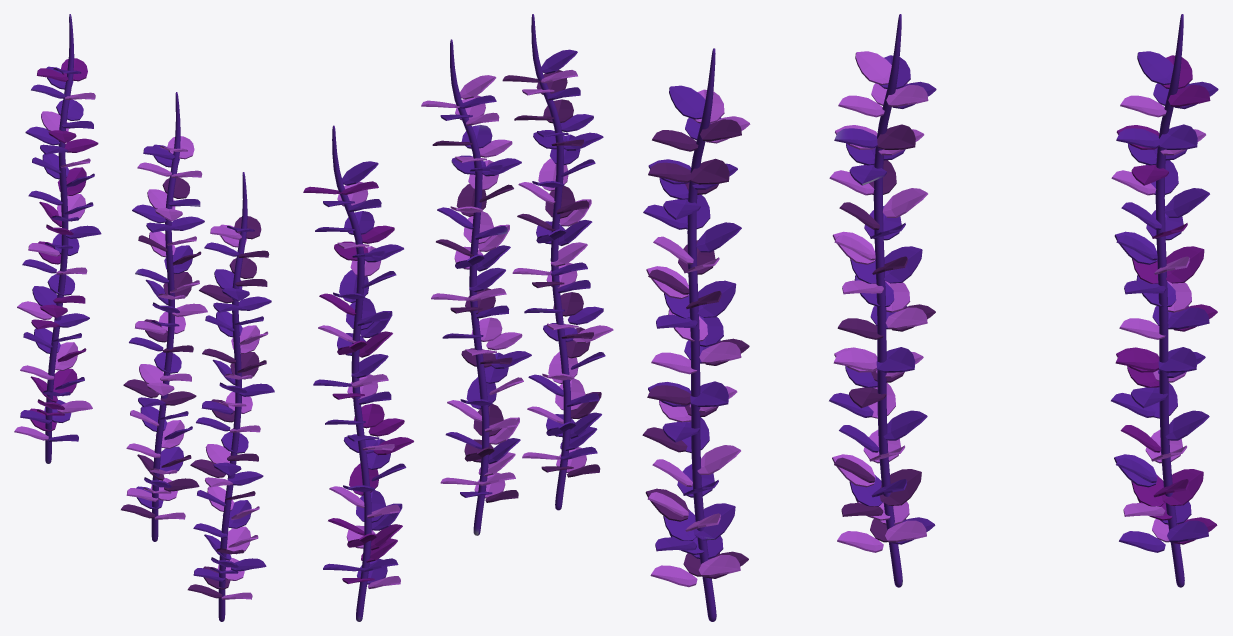
The model's file is seaweed_asset.glb.
3 views of the same model, side by side, from view 1: azimuth 30°, elevation 25°; view 2: azimuth 150°, elevation 25°; view 3: azimuth 270°, elevation 25° (orthographic). The views are drawn at different scales.
Visible parts, largest first — view 1: Group2 (×2), seaweed:Group2, Group44 (×2), Group41 (×2), Group20 (×2), Group17 (×2), Group51 (×2), seaweed:Group44, seaweed:Group41, seaweed:Group20, seaweed:Group17, seaweed:Group51; view 2: Group2 (×2), seaweed:Group2, Group5 (×2), Group50 (×2), Group56 (×2), Group23 (×2), Group38 (×2), seaweed:Group5, seaweed:Group50, seaweed:Group23, seaweed:Group56, Group42 (+1 smaller); view 3: Group2 (×2), seaweed:Group2, Group5 (×2), Group16 (×2), Group45 (×2), Group22 (×2), Group15 (×2), Group39 (×2), seaweed:Group5, seaweed:Group16, seaweed:Group45, seaweed:Group22 (+2 smaller).
Boxes of the visible parts, bbox=[...] form: Group2 (×2): bbox=[45, 14, 180, 541]; seaweed:Group2: bbox=[218, 172, 247, 621]; Group44 (×2): bbox=[53, 368, 183, 474]; Group41 (×2): bbox=[49, 342, 184, 448]; Group20 (×2): bbox=[57, 167, 192, 273]; Group17 (×2): bbox=[57, 194, 192, 299]; Group51 (×2): bbox=[32, 286, 163, 383]; seaweed:Group44: bbox=[226, 526, 250, 554]; seaweed:Group41: bbox=[222, 500, 251, 528]; seaweed:Group20: bbox=[231, 325, 259, 353]; seaweed:Group17: bbox=[230, 352, 259, 379]; seaweed:Group51: bbox=[205, 444, 230, 463]; Group2 (×2): bbox=[332, 39, 489, 621]; seaweed:Group2: bbox=[531, 14, 570, 510]; Group5 (×2): bbox=[342, 75, 496, 185]; Group50 (×2): bbox=[354, 317, 502, 428]; Group56 (×2): bbox=[351, 268, 505, 378]; Group23 (×2): bbox=[339, 184, 486, 302]; Group38 (×2): bbox=[349, 377, 496, 495]; seaweed:Group5: bbox=[541, 49, 577, 73]; seaweed:Group50: bbox=[553, 292, 583, 316]; seaweed:Group23: bbox=[538, 158, 568, 191]; seaweed:Group56: bbox=[550, 242, 587, 266]; Group42: bbox=[356, 490, 385, 522]; Group2 (×2): bbox=[873, 14, 1184, 587]; seaweed:Group2: bbox=[687, 48, 716, 621]; Group5 (×2): bbox=[855, 51, 1173, 84]; Group16 (×2): bbox=[884, 246, 1204, 283]; Group45 (×2): bbox=[880, 469, 1203, 505]; Group22 (×2): bbox=[883, 188, 1209, 217]; Group15 (×2): bbox=[877, 124, 1197, 149]; Group39 (×2): bbox=[883, 410, 1209, 440]; seaweed:Group5: bbox=[669, 85, 705, 119]; seaweed:Group16: bbox=[697, 280, 736, 317]; seaweed:Group45: bbox=[693, 503, 735, 540]; seaweed:Group22: bbox=[696, 222, 741, 252].
Bounding box in the file's own units: 0.3606 × 2 × 1.67.
Materials: 3 (3 with a texture image).
